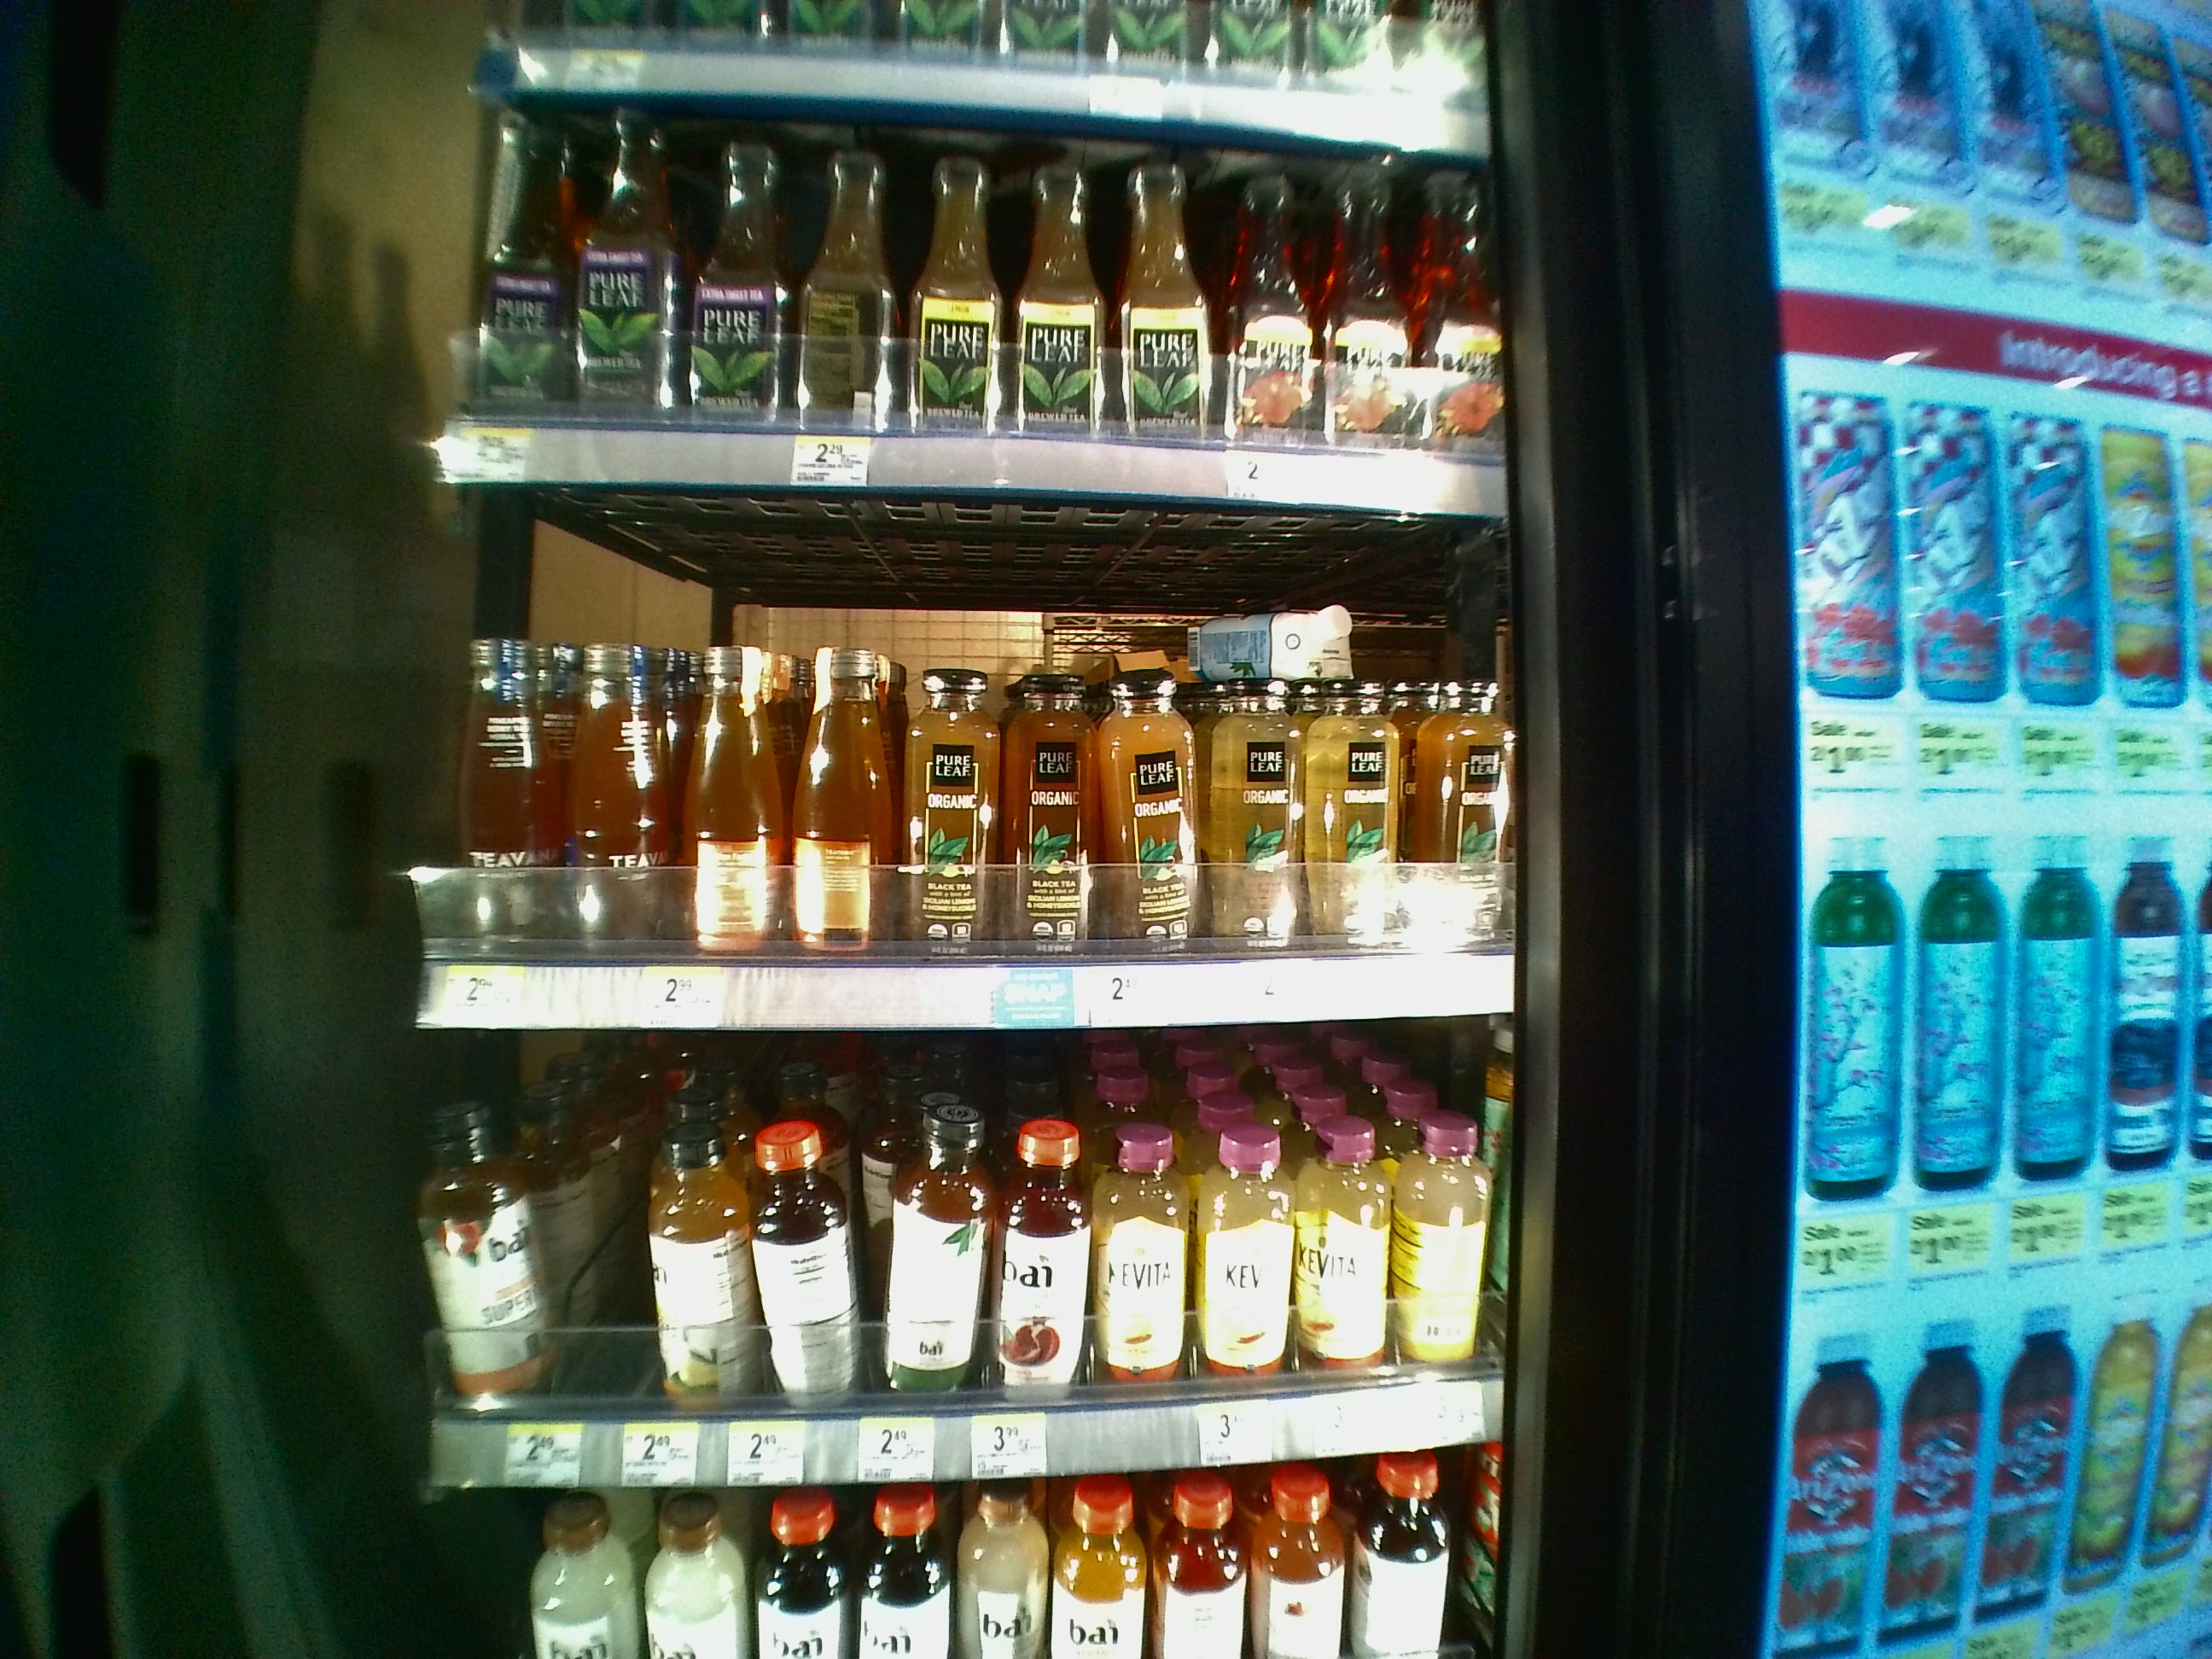shelf: (421, 518, 1519, 1025), (416, 1037, 1521, 1492), (444, 91, 1503, 511)
